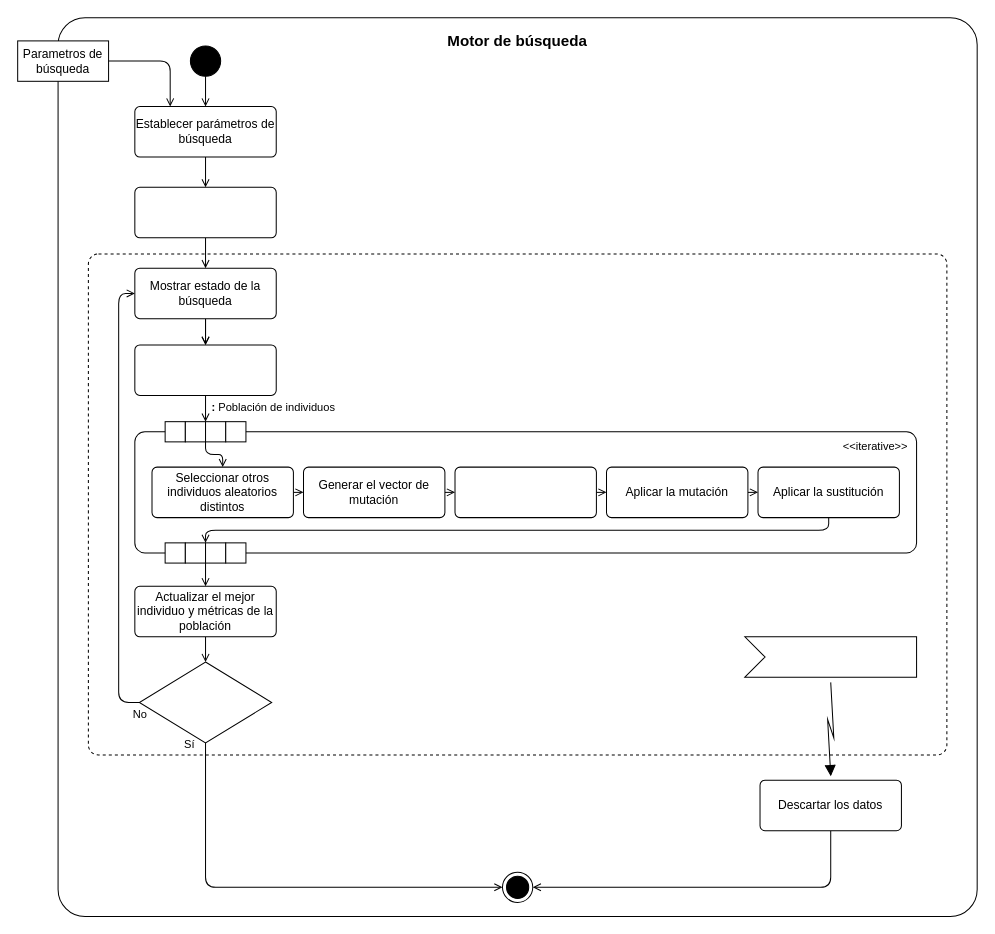
The diagram is 995 pixels wide and 934 high, and some of its shapes have lost their labels. Each missing label, with the centre of its shape:
"Evaluar población" belongs at (205,369).
"Inicializar población" belongs at (205,212).
"Interrupción del usuario" belongs at (830,656).
"Realizar la cruza uniforme" belongs at (525,492).
"¿Se cumple algún criterio de paro?" belongs at (205,702).
